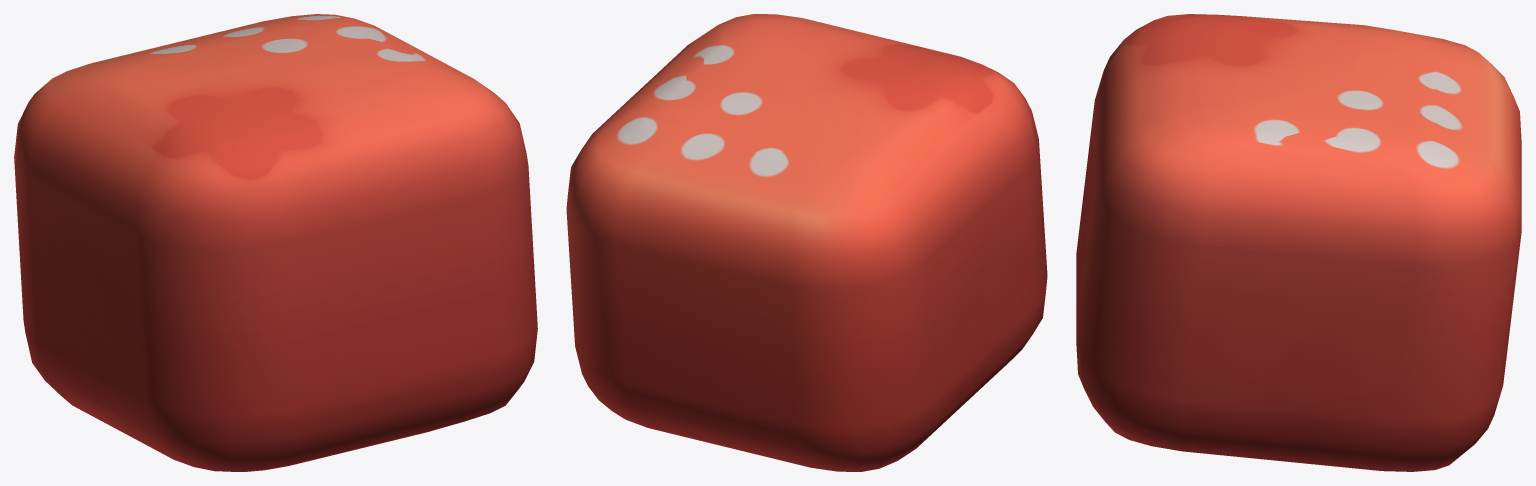
File: Block_Question.fbx
The picture shows the model from 3 angles, left to right: view 1: azimuth 30°, elevation 25°; view 2: azimuth 150°, elevation 25°; view 3: azimuth 270°, elevation 25°; orthographic projection. The views are drawn at different scales.
Parts seen in each view (by area): view 1: Block_Question; view 2: Block_Question; view 3: Block_Question.
Part boxes in pixels (x1,y1,x2,y2): Block_Question: (14,14,537,471); Block_Question: (566,14,1047,471); Block_Question: (1076,14,1521,471).
Bounding box in the file's own units: 109 × 97.04 × 114.
